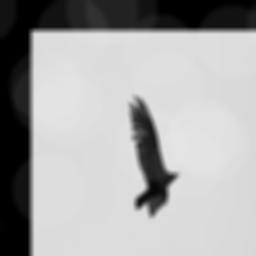Crow: (129, 93, 180, 217)
